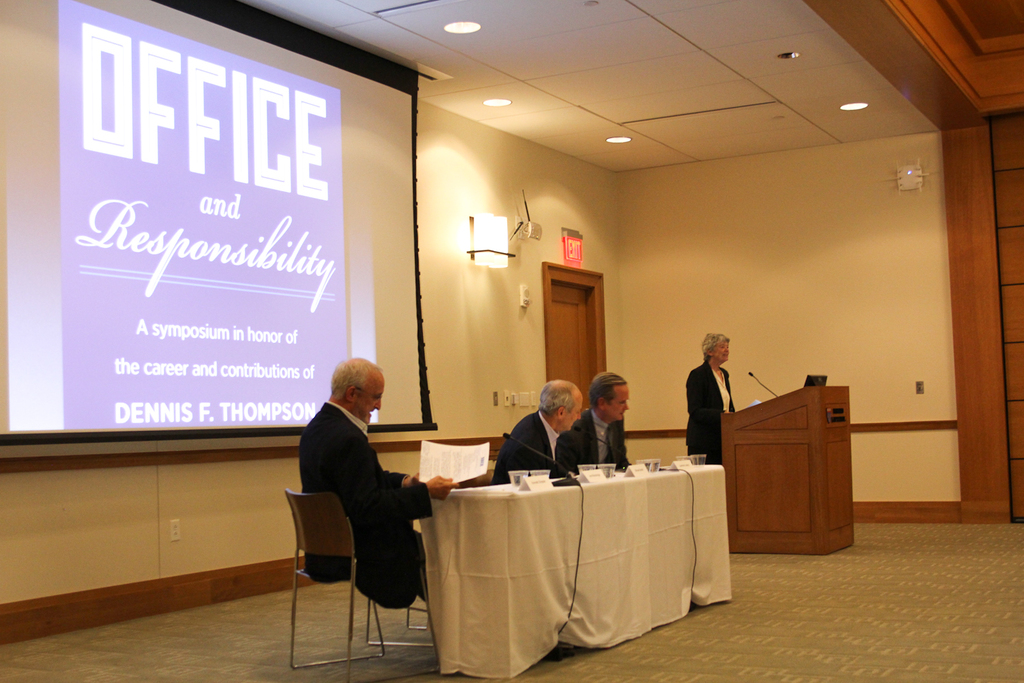Person: (297, 357, 461, 605), (489, 379, 584, 484), (685, 332, 736, 466), (573, 371, 632, 474)
